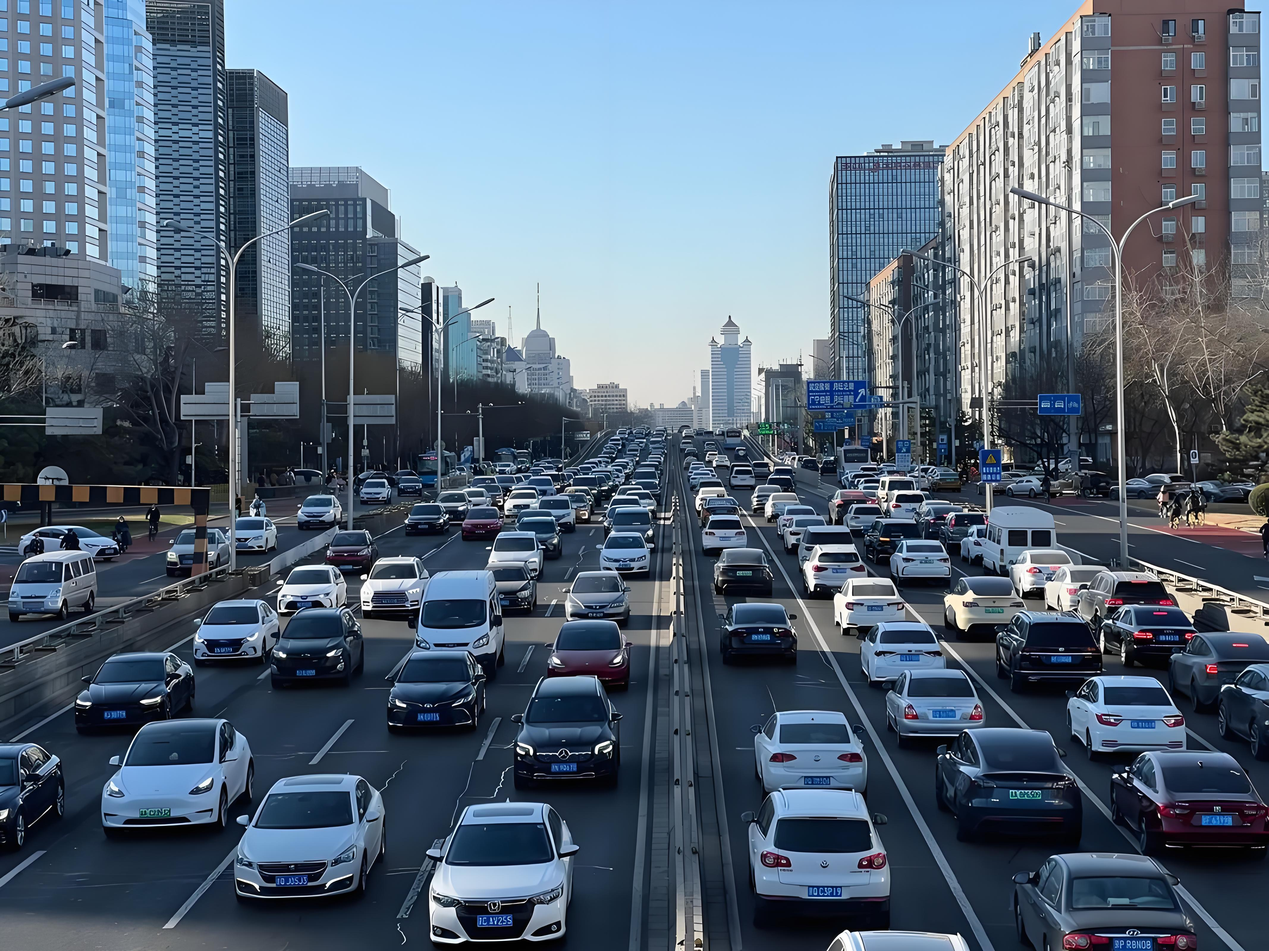bus: (1089, 732, 1267, 839)
car: (416, 803, 582, 951), (1089, 732, 1267, 839), (1013, 846, 1194, 951), (734, 690, 888, 806), (95, 727, 254, 830), (739, 787, 885, 893), (903, 733, 1078, 821), (422, 556, 530, 681), (61, 648, 227, 727), (364, 645, 509, 729), (701, 595, 829, 687), (1071, 555, 1175, 659), (1103, 602, 1238, 682), (518, 686, 628, 778), (243, 782, 351, 874), (1073, 678, 1192, 761), (9, 536, 96, 624), (992, 609, 1093, 684), (270, 605, 371, 676), (846, 624, 941, 697), (940, 572, 1025, 649), (879, 673, 975, 741), (550, 613, 637, 688), (268, 557, 337, 634), (196, 597, 274, 664), (361, 552, 444, 614), (713, 539, 794, 602), (822, 581, 906, 641), (848, 517, 919, 576), (487, 519, 545, 589), (480, 555, 537, 621), (873, 473, 932, 530), (769, 504, 824, 565), (698, 511, 764, 561), (597, 491, 647, 556), (946, 509, 996, 574), (887, 539, 949, 591), (907, 489, 970, 540), (296, 489, 355, 543), (579, 564, 631, 624), (1008, 540, 1063, 596), (525, 509, 573, 572), (1049, 558, 1102, 615), (689, 476, 742, 530), (216, 511, 277, 557), (791, 537, 849, 585), (601, 528, 652, 575), (394, 489, 438, 536), (823, 486, 868, 530), (749, 484, 793, 527), (480, 482, 537, 512), (184, 515, 216, 563), (560, 488, 596, 526), (358, 474, 394, 511), (433, 498, 475, 526), (540, 489, 567, 530)
